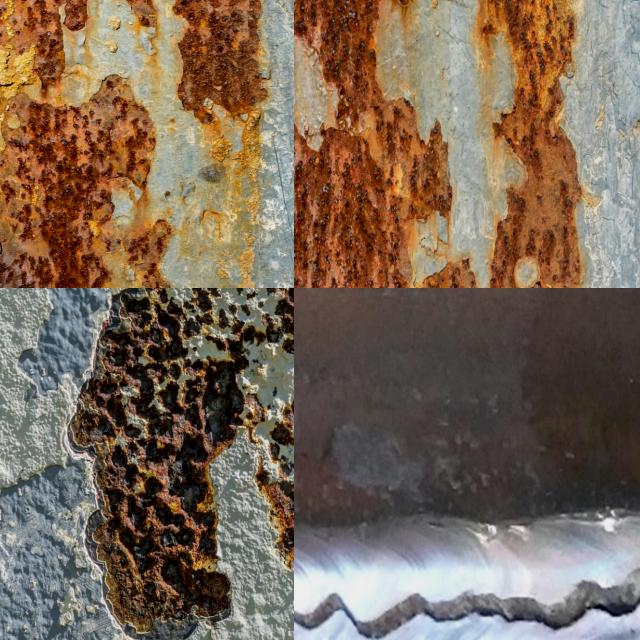Crack: (294, 567, 640, 639)
Pitting Corrosion: (71, 288, 294, 640), (294, 0, 473, 288), (481, 0, 581, 288), (166, 0, 267, 123), (126, 220, 173, 288)
